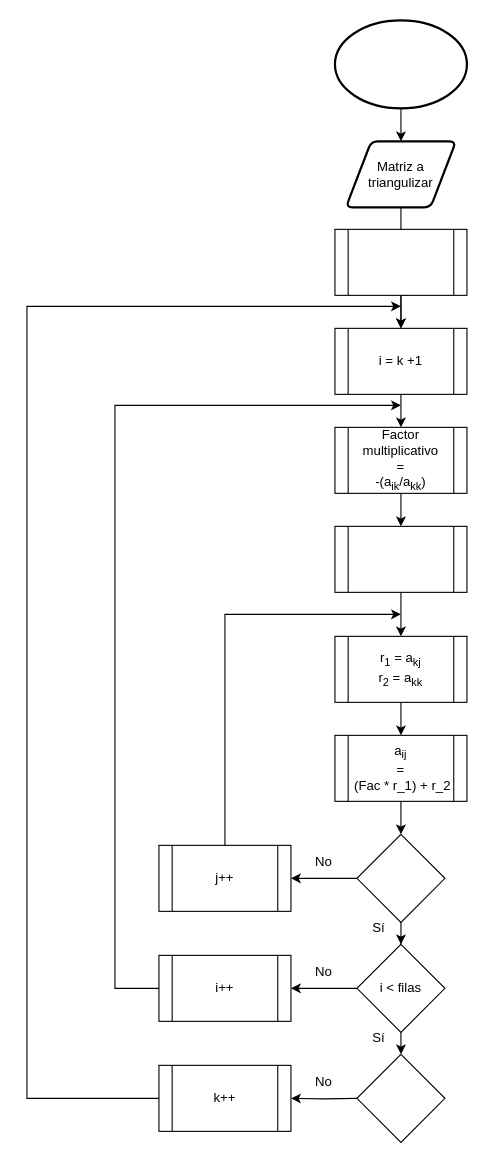
Image size: 487x1162. Some labels were removed from this diagram. Here are the shapes that lost their labels. From the top down, the centre of each, then its label:
At (400,64): "Inicio".
At (400,261): "k = 0".
At (400,558): "j = k".
At (400,877): "j < columnas".
At (400,1097): "k < filas -1".
